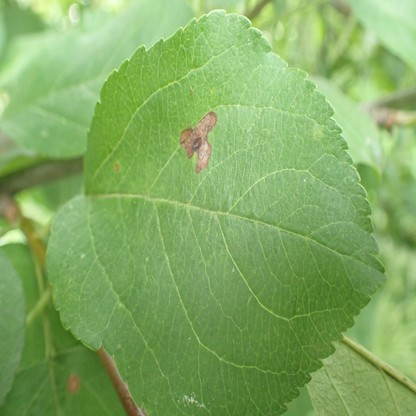frogeye: (181, 110, 218, 173), (67, 374, 80, 395), (114, 163, 118, 172)
